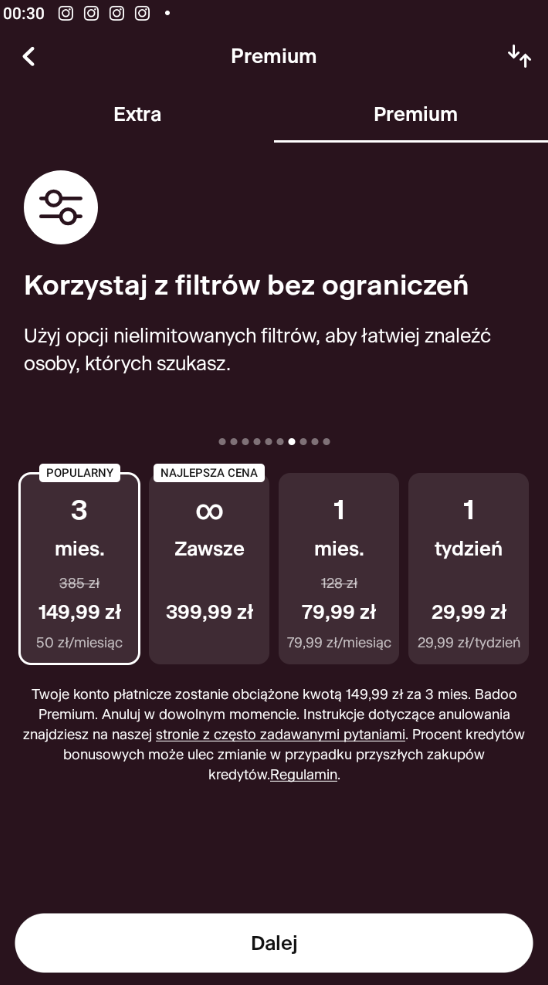kupno_button: (16, 906, 534, 973)
